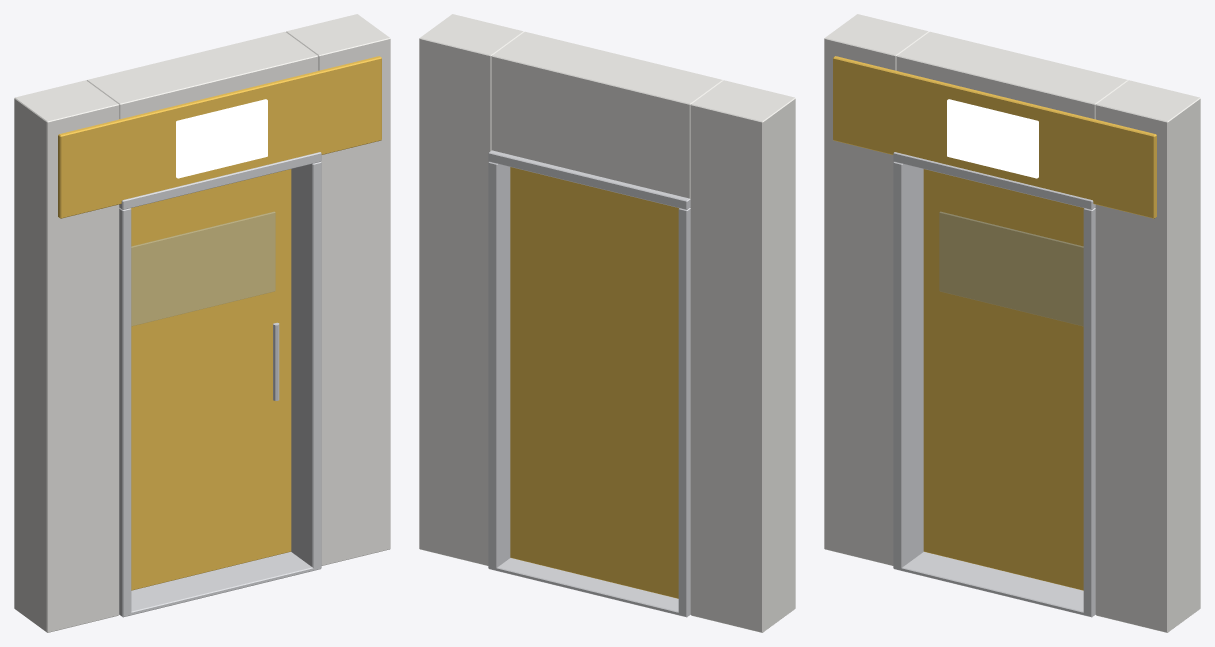
Rendered from motorway-services-and-truck-park-baby-change-entrance-c2e6afae__35941.glb.
3 views of the same model, side by side, from view 1: azimuth 30°, elevation 25°; view 2: azimuth 150°, elevation 25°; view 3: azimuth 330°, elevation 25° (orthographic).
Parts seen in each view (by area): view 1: baby-change-entrance, wc-door/amber, wc-door/glass, wc-door/metal; view 2: baby-change-entrance, wc-door/amber; view 3: baby-change-entrance, wc-door/amber, wc-door/glass.
Part boxes in pixels (box(x1,y1,x2,y2)): baby-change-entrance: box(14, 14, 390, 632); wc-door/amber: box(131, 169, 291, 590); wc-door/glass: box(131, 212, 275, 325); wc-door/metal: box(273, 322, 279, 400); baby-change-entrance: box(419, 14, 795, 632); wc-door/amber: box(510, 167, 678, 598); baby-change-entrance: box(824, 14, 1200, 632); wc-door/amber: box(923, 169, 1083, 590); wc-door/glass: box(939, 212, 1083, 325).
Size of the model in its own units: 1.9 by 2.7 by 0.386.
